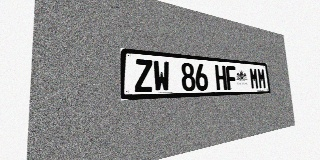6: (195, 63, 209, 91)
8: (181, 62, 196, 91)
F: (226, 66, 237, 90)
H: (215, 65, 227, 90)
M: (249, 67, 259, 89), (257, 68, 267, 89)
W: (153, 60, 170, 92)
Z: (134, 59, 153, 92)
